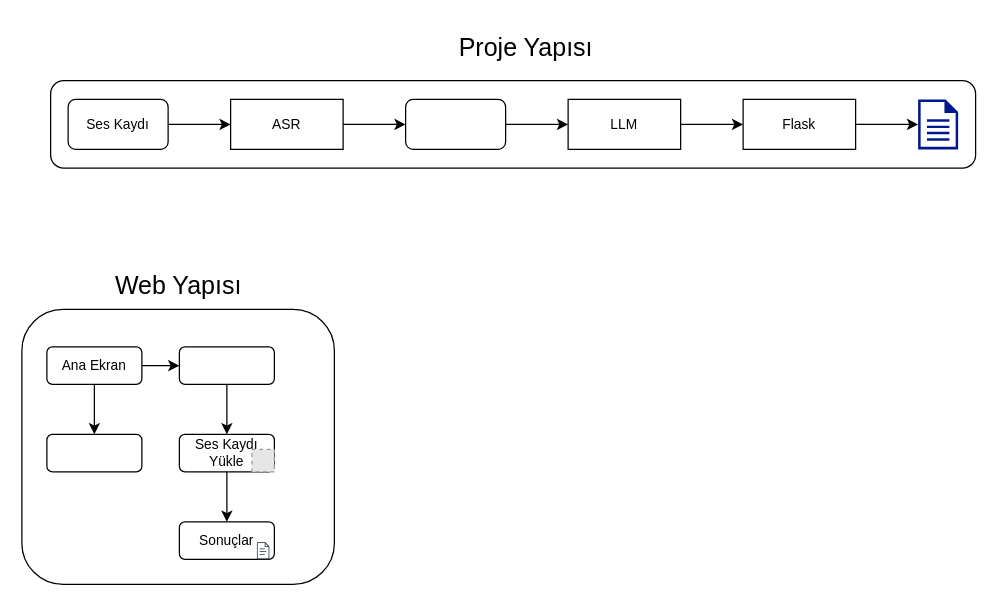
This 998x606 diagram has some shape labels left out. Grey dashed boxes stand in for pictures. The box of each missing label's shape, as (x1, y1, x2, y2) in pixels:
Text: (404, 98, 506, 149)
Üye Girişi: (178, 346, 274, 384)
Üye Ol: (46, 433, 142, 472)
